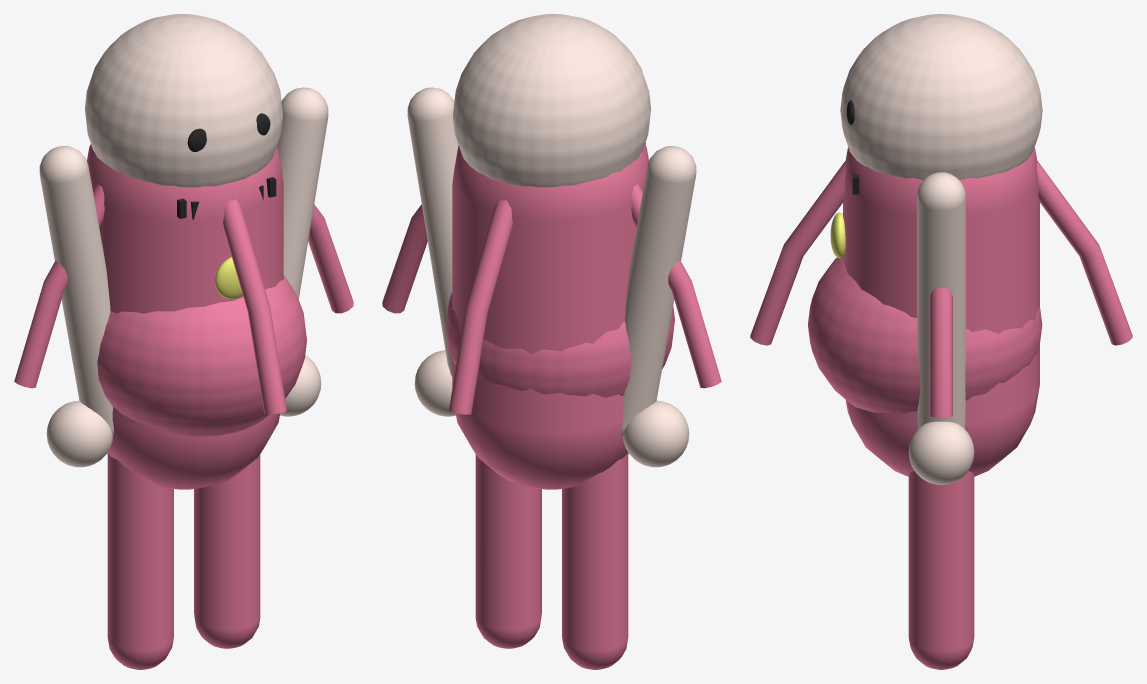
The model's file is MN_partygoer.fbx.
3 renders of one model, left to right at view 1: azimuth 30°, elevation 25°; view 2: azimuth 150°, elevation 25°; view 3: azimuth 270°, elevation 25°, orthographic.
Parts seen in each view (by area): view 1: MN_partygoer; view 2: MN_partygoer; view 3: MN_partygoer.
Boxes of the visible parts, x1,y1,x2,y2 form: MN_partygoer: (14,14,353,669); MN_partygoer: (382,14,721,669); MN_partygoer: (750,14,1132,669).
Size of the model in its own units: 1.16 by 2.09 by 1.16.
